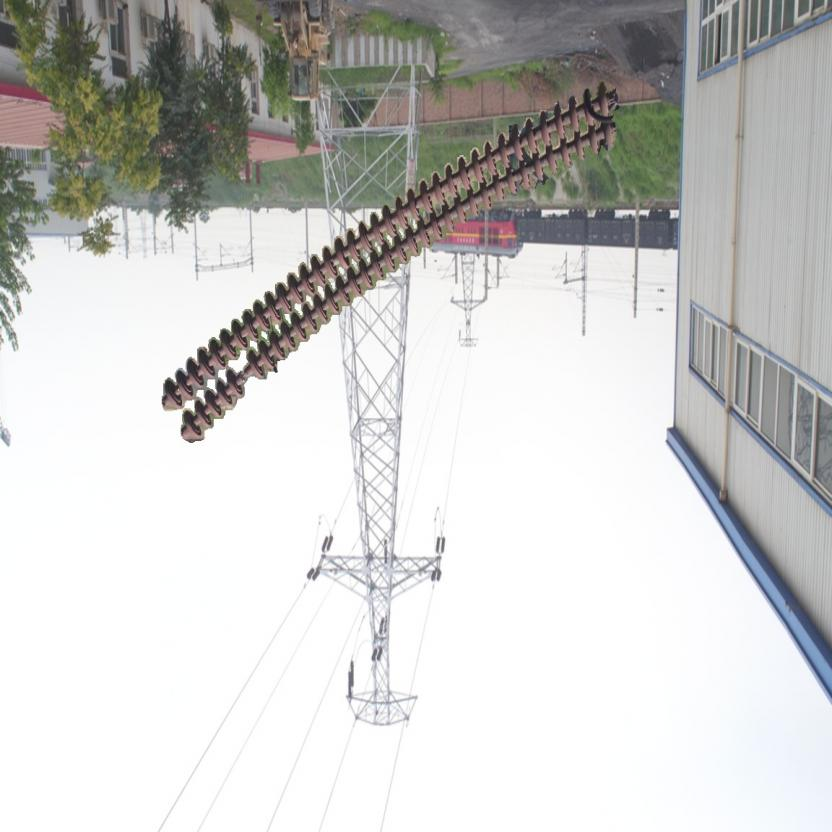defect: (223, 350, 265, 402)
